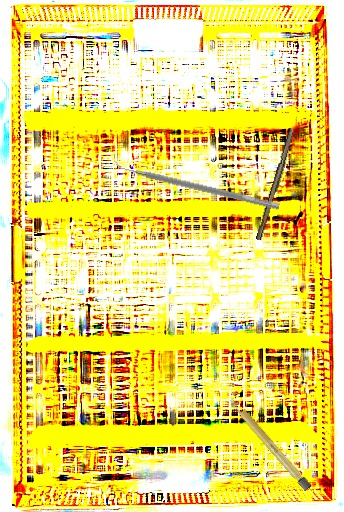Scalpel Handle: (227, 395, 312, 492), (255, 127, 297, 242)
Spatula Surgical: (111, 157, 282, 211)
